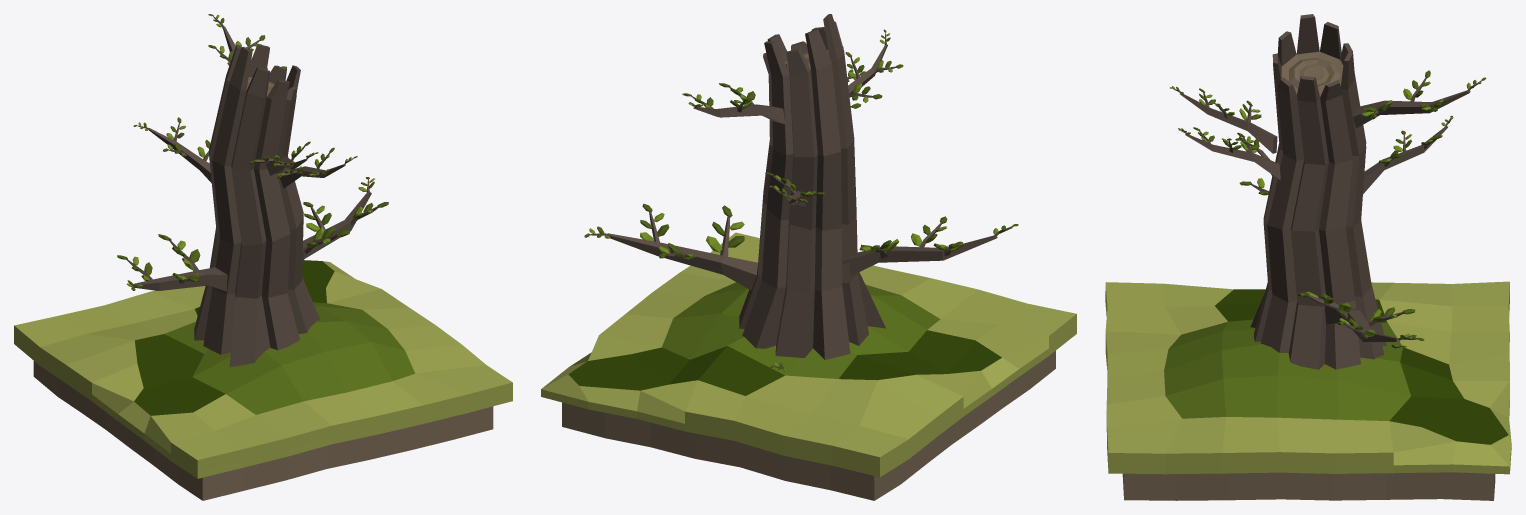
The model's file is tree_trunk.fbx.
3 renders of one model, left to right at view 1: azimuth 30°, elevation 25°; view 2: azimuth 150°, elevation 25°; view 3: azimuth 270°, elevation 25°, orthographic. The views are drawn at different scales.
Visible parts, largest first — view 1: Cylinder, Cube_Cube.004, Cube_Cube.007, Cube_Cube.006; view 2: Cylinder, Cube_Cube.007, Cube_Cube.004, Cube_Cube.005, Cube.001_Cube.016; view 3: Cylinder, Cube_Cube.005, Cube_Cube.002, Cube_Cube.007, Cube_Cube.003, Cube_Cube.006, Cube.001_Cube.016.
Part boxes in pixels (bbox=[...]): Cylinder: bbox=[14, 44, 512, 500]; Cube_Cube.004: bbox=[133, 267, 227, 291]; Cube_Cube.007: bbox=[302, 191, 371, 261]; Cube_Cube.006: bbox=[149, 128, 211, 182]; Cylinder: bbox=[541, 14, 1076, 500]; Cube_Cube.007: bbox=[608, 233, 757, 290]; Cube_Cube.004: bbox=[842, 235, 997, 275]; Cube_Cube.005: bbox=[693, 104, 785, 124]; Cube.001_Cube.016: bbox=[706, 205, 744, 256]; Cylinder: bbox=[1105, 14, 1511, 500]; Cube_Cube.005: bbox=[1353, 90, 1470, 128]; Cube_Cube.002: bbox=[1180, 93, 1277, 153]; Cube_Cube.007: bbox=[1324, 306, 1400, 342]; Cube_Cube.003: bbox=[1185, 134, 1280, 180]; Cube_Cube.006: bbox=[1363, 126, 1447, 193]; Cube.001_Cube.016: bbox=[1298, 291, 1351, 318].
Bounding box in the file's own units: 408 × 437 × 403.
